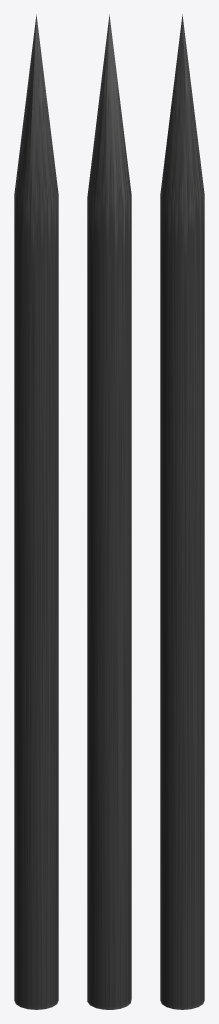
File: syurikenn4.fbx
The picture shows the model from 3 angles, left to right: view 1: azimuth 90°, elevation 25°; view 2: azimuth 210°, elevation 25°; view 3: azimuth 270°, elevation 25°; orthographic projection.
Visible parts, largest first — view 1: bdef:obj1; view 2: bdef:obj1; view 3: bdef:obj1.
Part boxes in pixels (x1,y1,x2,y2): bdef:obj1: [14, 14, 58, 1009]; bdef:obj1: [87, 14, 131, 1009]; bdef:obj1: [160, 14, 204, 1009].
Bounding box in the file's own units: 0.6 × 14.7 × 0.6.
